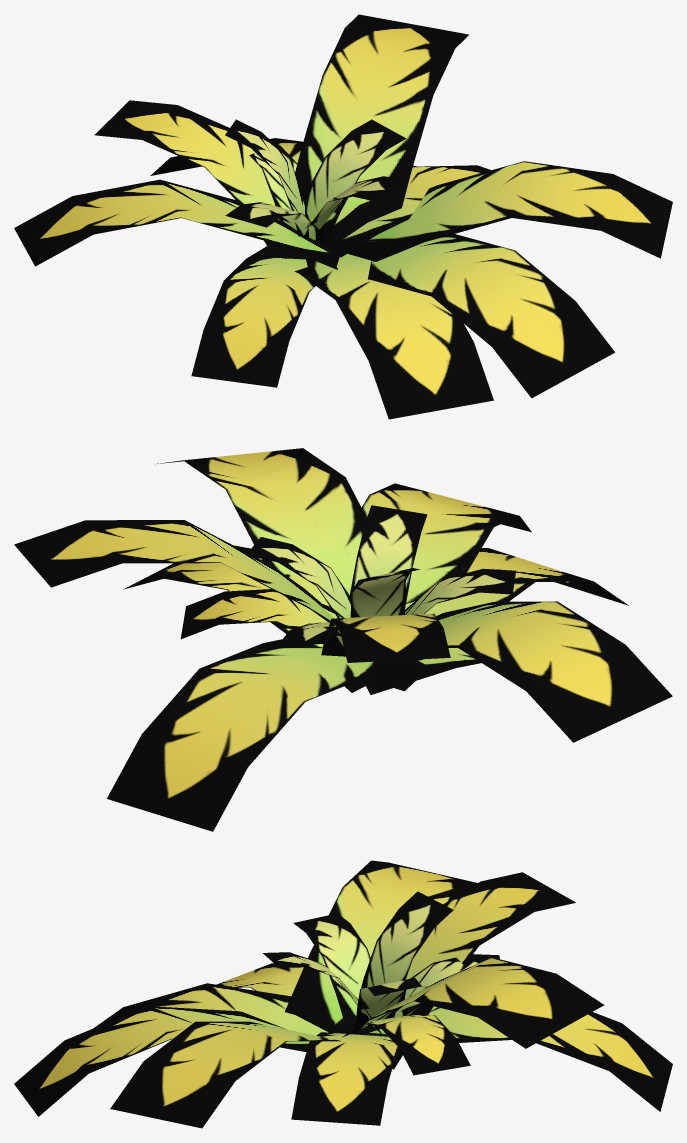
File: SM_fougere_2.FBX
The picture shows the model from 3 angles, top to bottom: view 1: azimuth 30°, elevation 25°; view 2: azimuth 150°, elevation 25°; view 3: azimuth 270°, elevation 25°; orthographic projection. The views are drawn at different scales.
Parts seen in each view (by area): view 1: fougere2; view 2: fougere2; view 3: fougere2.
Boxes of the visible parts, x1,y1,x2,y2 form: fougere2: (14, 14, 672, 419); fougere2: (14, 448, 672, 831); fougere2: (14, 860, 672, 1128).
Size of the model in its own units: 1425 by 415 by 1492.
